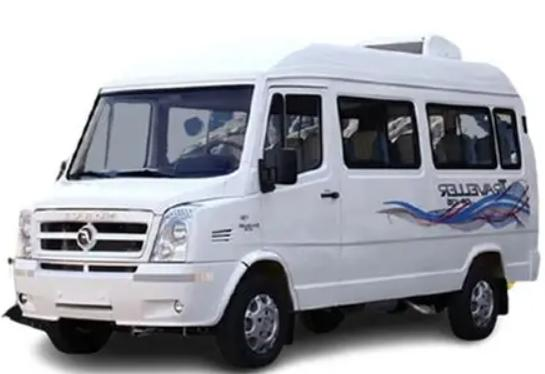van: (6, 13, 545, 355)
